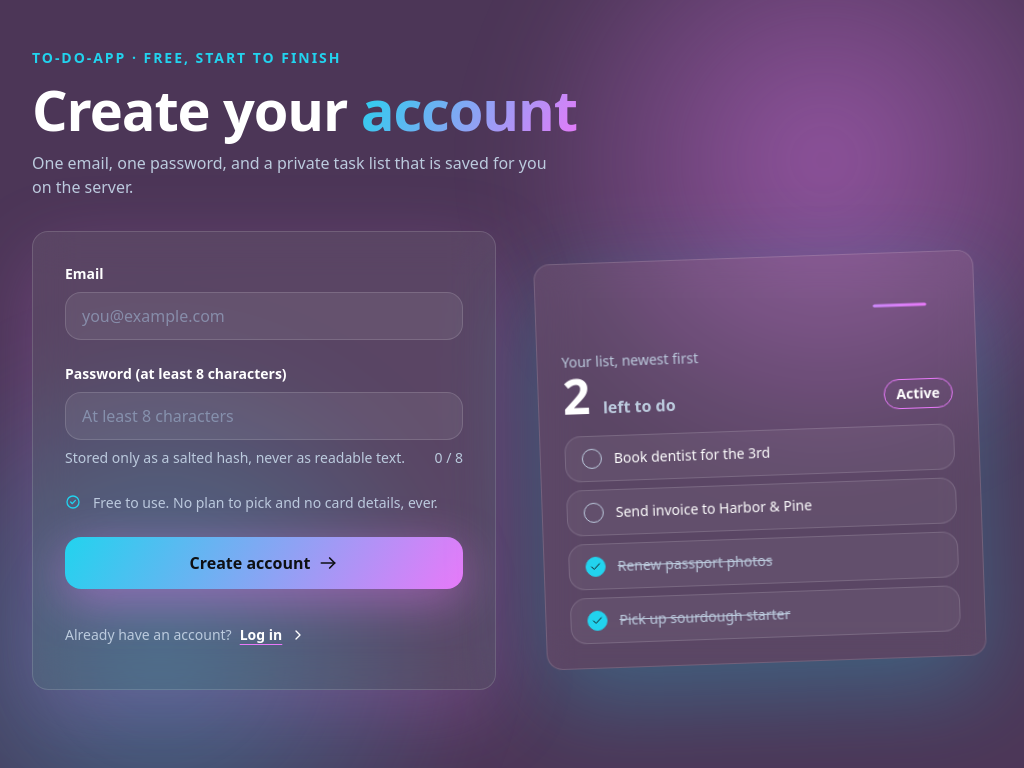
Signup › [AC-003] short password blocked, no request
This screenshot has width=1024, height=768.
Type "a@b.co" into the field labelled "Email" at (264, 316), box [65,292,463,340]
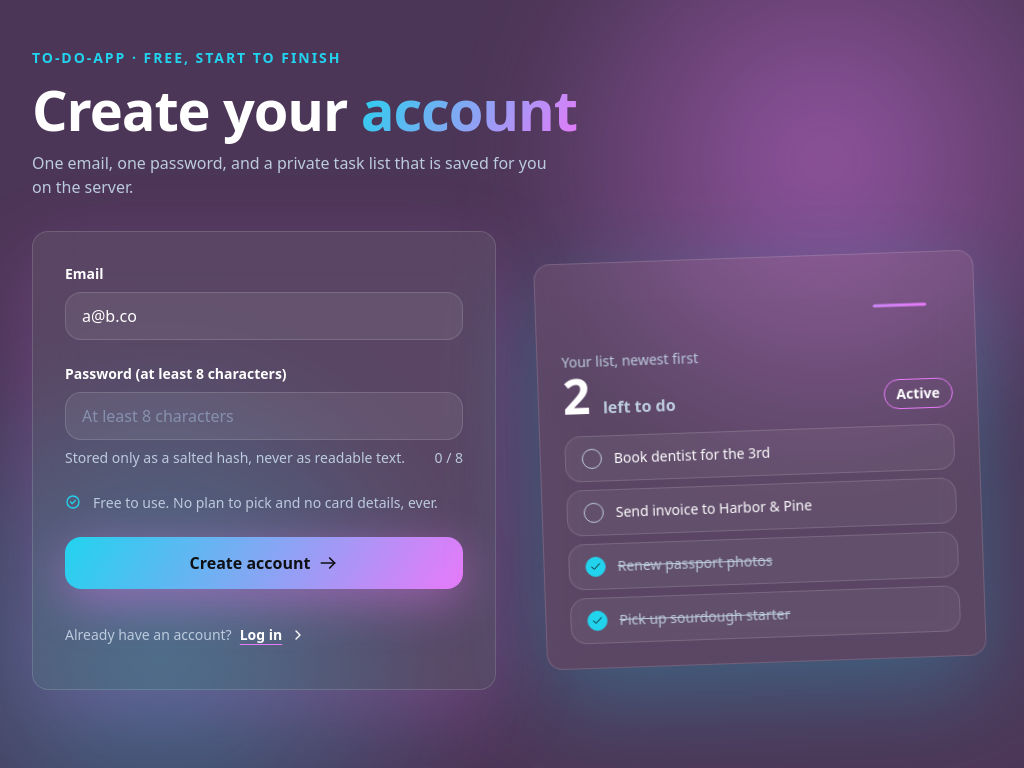
Type "short" into the password field labelled "Password (at least 8 characters)" at (264, 416), box [65,392,463,440]
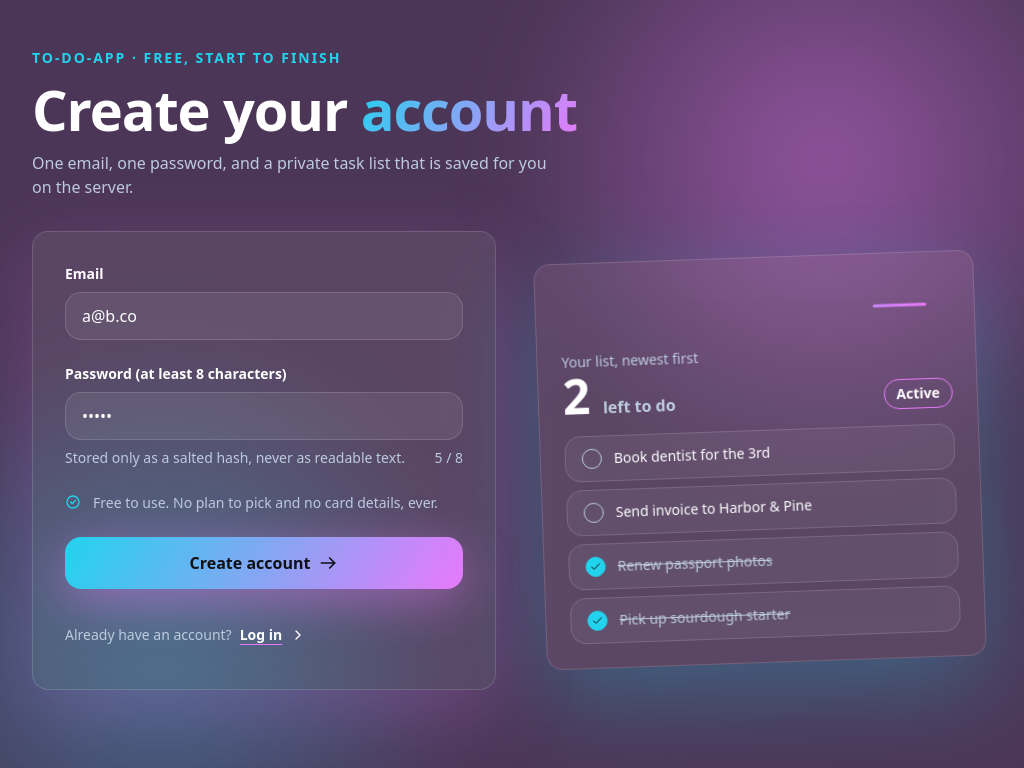
Click the button "Create account" at (264, 563), box [65,537,463,589]
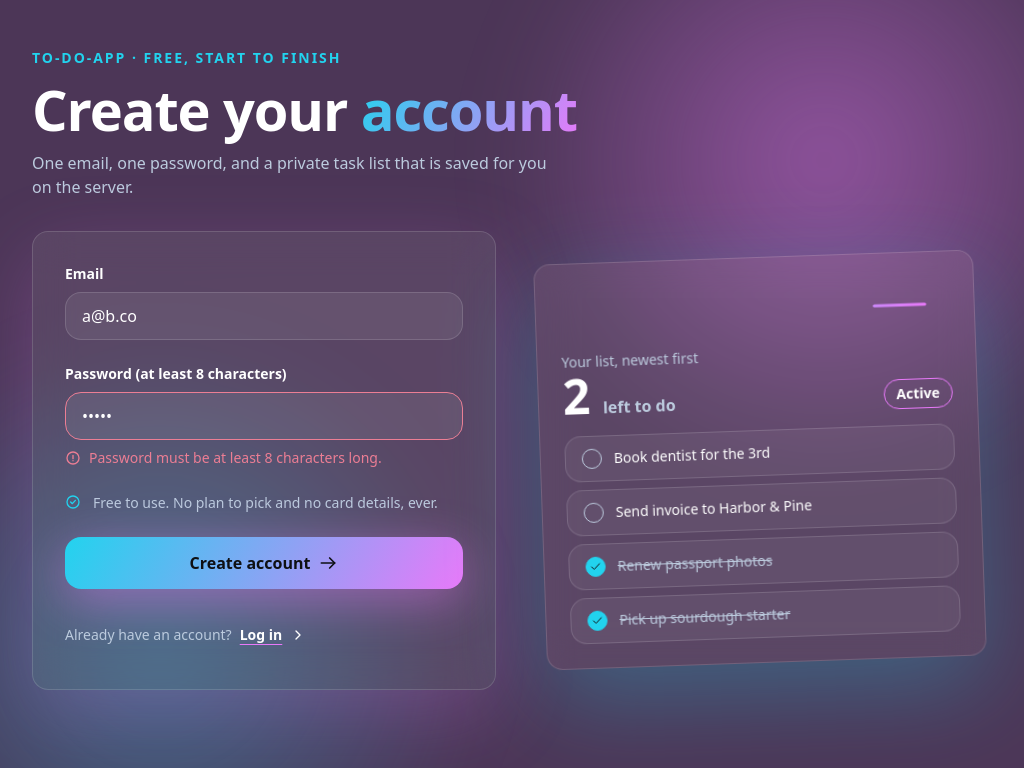
expect the text "Password must be at least 8 characters long." is shown: met, box [89,448,382,468]
